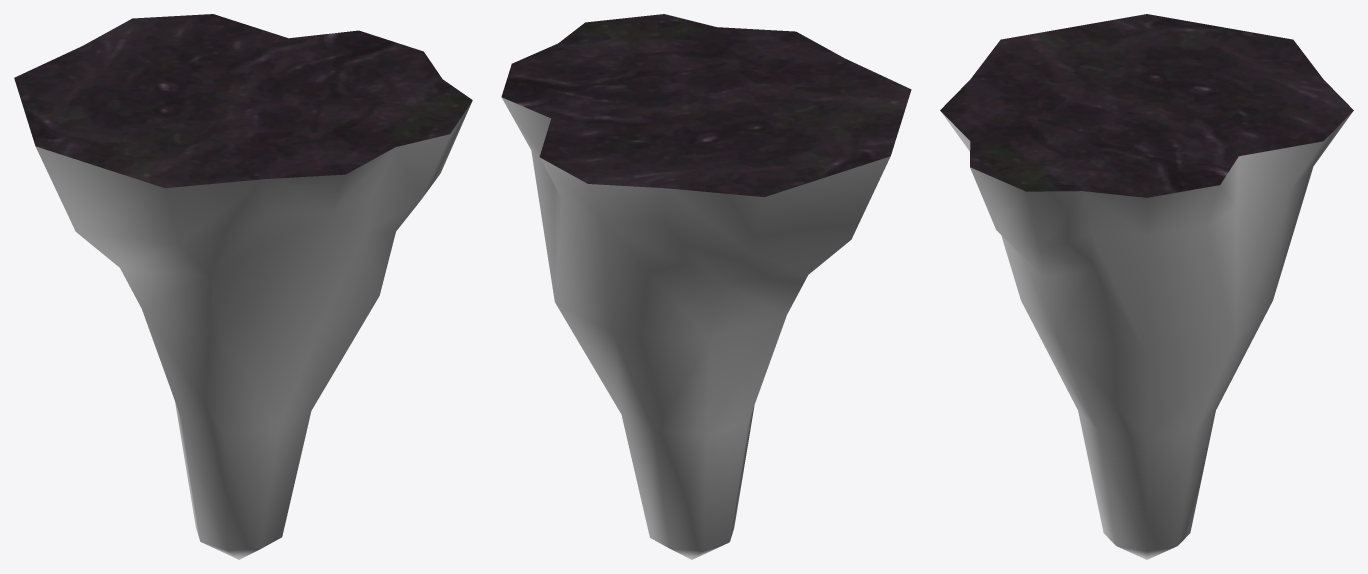
File: cave_stalactite_04.fbx
3 renders of one model, left to right at view 1: azimuth 30°, elevation 25°; view 2: azimuth 150°, elevation 25°; view 3: azimuth 270°, elevation 25°, orthographic. The views are drawn at different scales.
Parts seen in each view (by area): view 1: cave_stalactite_04-0; view 2: cave_stalactite_04-0; view 3: cave_stalactite_04-0.
Part boxes in pixels (left/top/right/bottom): cave_stalactite_04-0: left=14, top=14, right=472, bottom=559; cave_stalactite_04-0: left=501, top=14, right=911, bottom=559; cave_stalactite_04-0: left=940, top=14, right=1353, bottom=559.
Bounding box in the file's own units: 2.5 × 2.85 × 2.38.
